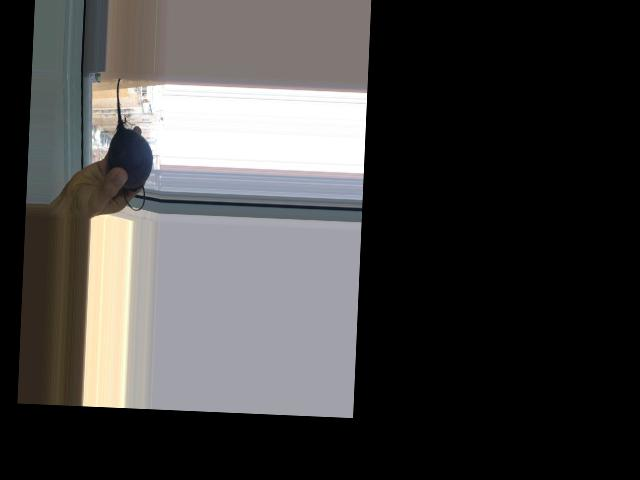beet: (105, 77, 156, 210)
